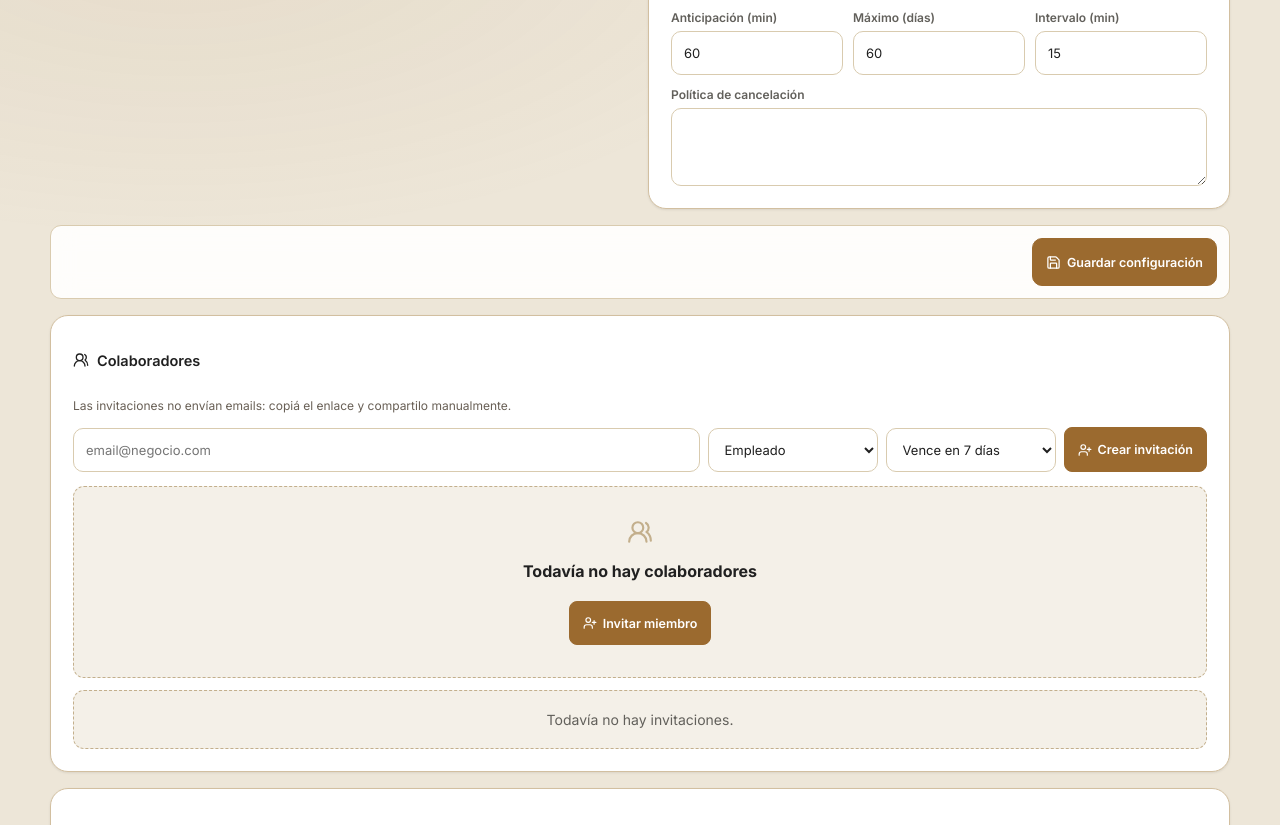
Test: Auditoría de configuración: copiar una invitación › sólo confirma que se copió después de que el navegador acepta escribir
The image size is (1280, 825).
(page scrolled)
Type "prueba@example.invalid" into the field named "Email de la invitación" at (386, 450), box x1=73 y1=428 x2=700 y2=472
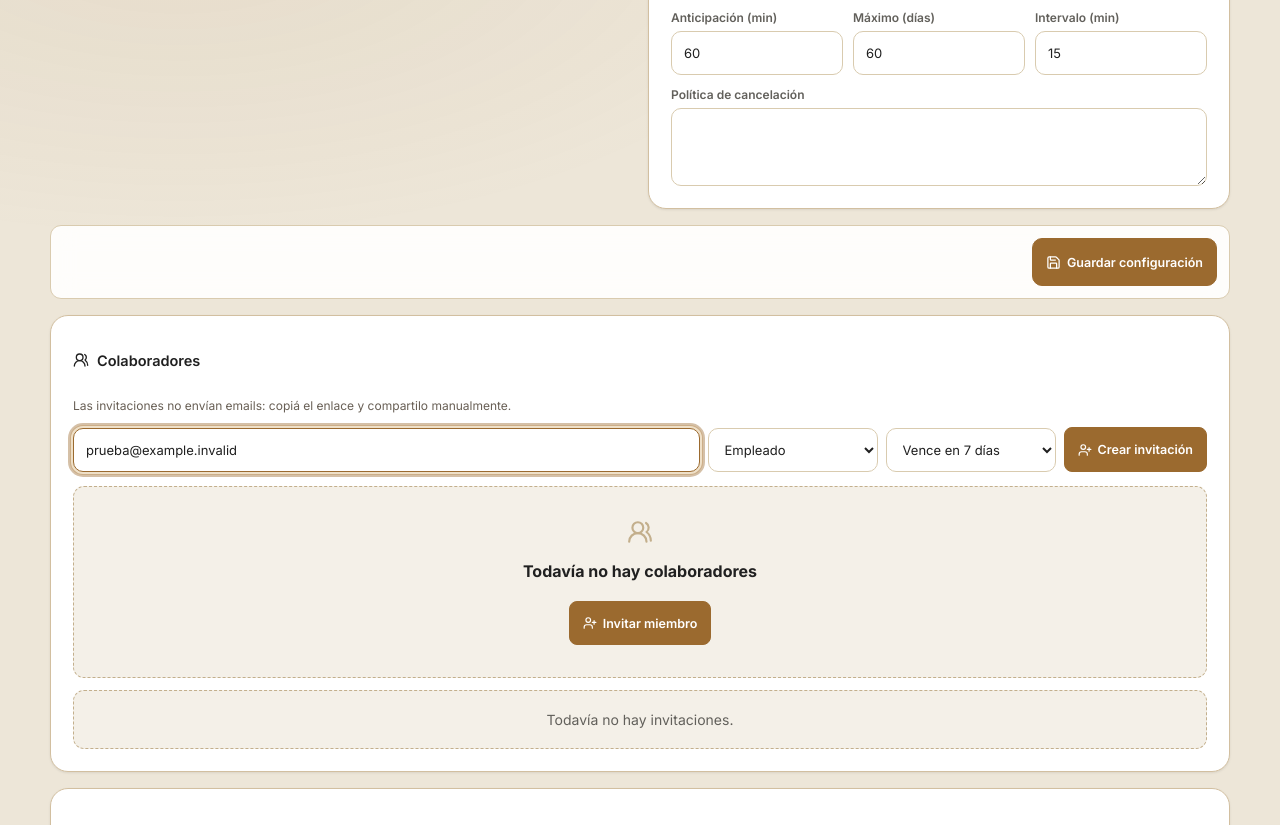
Click the button "Crear invitación" at (1135, 450), box x1=1064 y1=427 x2=1207 y2=472
(page scrolled)
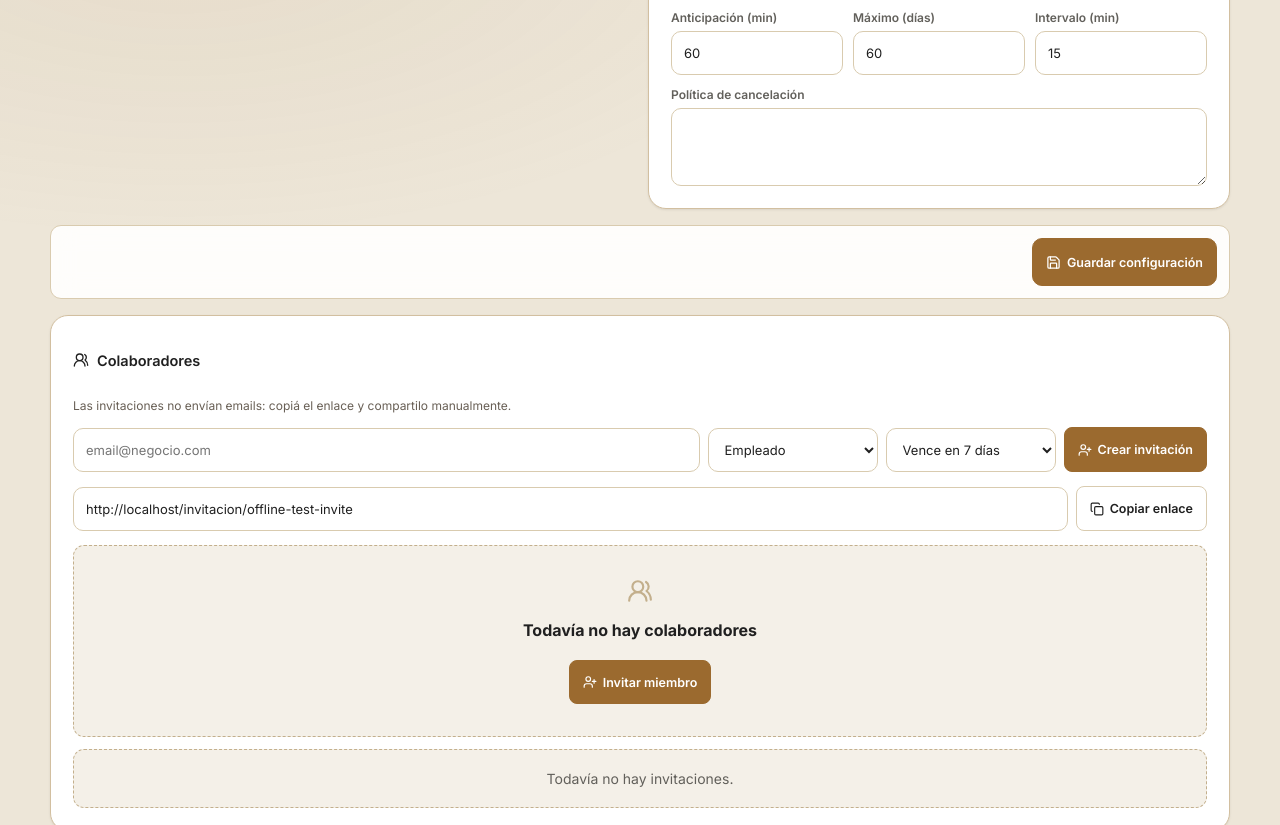
Check: the field named "Enlace de invitación generado" is shown, box x1=73 y1=487 x2=1068 y2=531
Click the button "Copiar enlace" at (1141, 509), box x1=1076 y1=486 x2=1207 y2=531
(page scrolled)
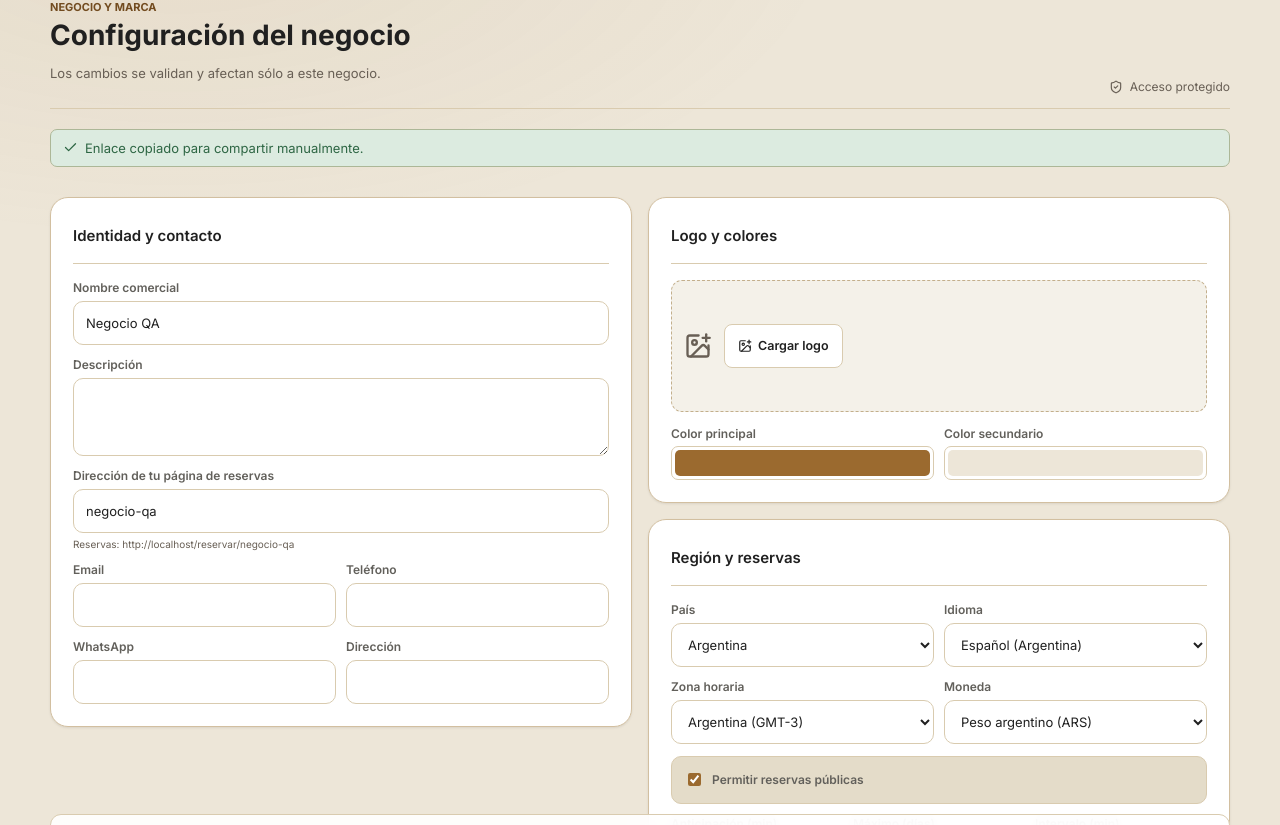
Check: the text "Enlace copiado para compartir manualmente." is shown, box x1=50 y1=129 x2=1230 y2=167
